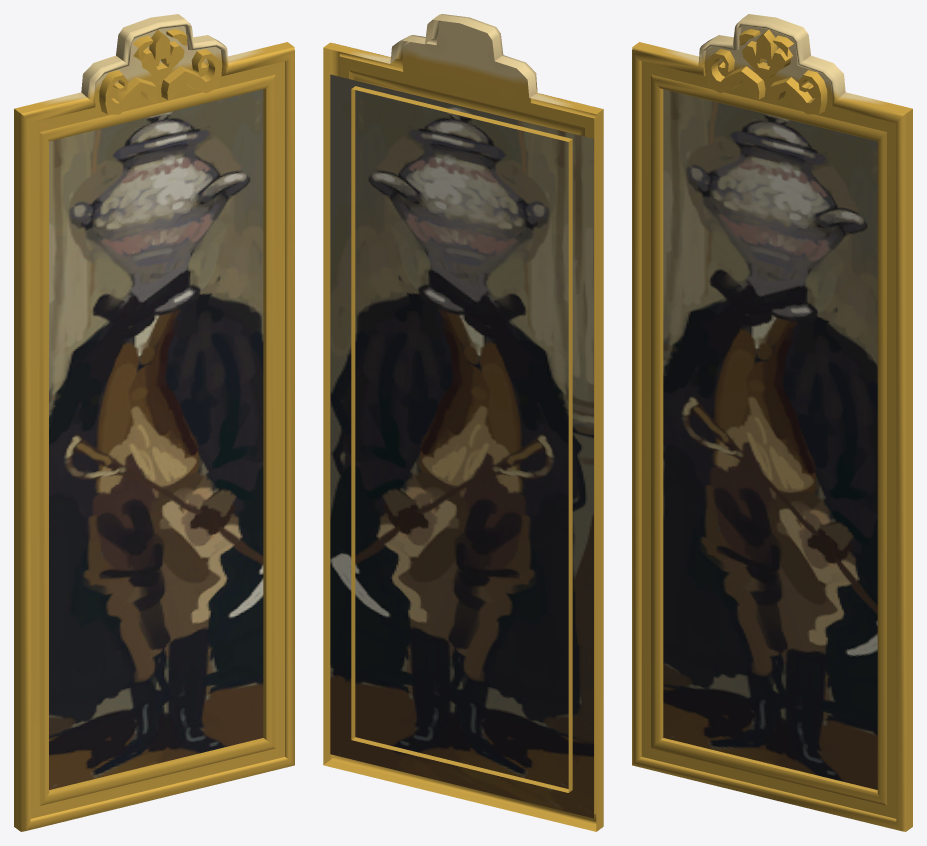
The model's file is paintingFrame3.fbx.
The picture shows the model from 3 angles, left to right: view 1: azimuth 30°, elevation 25°; view 2: azimuth 150°, elevation 25°; view 3: azimuth 330°, elevation 25°; orthographic projection.
Parts seen in each view (by area): view 1: paintingPicture3, paintingFrame3, painting3Detail; view 2: paintingPicture3, paintingFrame3; view 3: paintingPicture3, paintingFrame3, painting3Detail.
Boxes of the visible parts, x1,y1,x2,y2 form: paintingPicture3: [49, 89, 263, 789]; paintingFrame3: [14, 14, 294, 831]; painting3Detail: [99, 29, 220, 114]; paintingPicture3: [330, 74, 593, 818]; paintingFrame3: [323, 14, 603, 831]; paintingPicture3: [663, 89, 877, 789]; paintingFrame3: [632, 14, 912, 831]; painting3Detail: [706, 29, 827, 114].
Bounding box in the file's own units: 166 × 449 × 12.93.
Materials: 2 (2 with a texture image).
